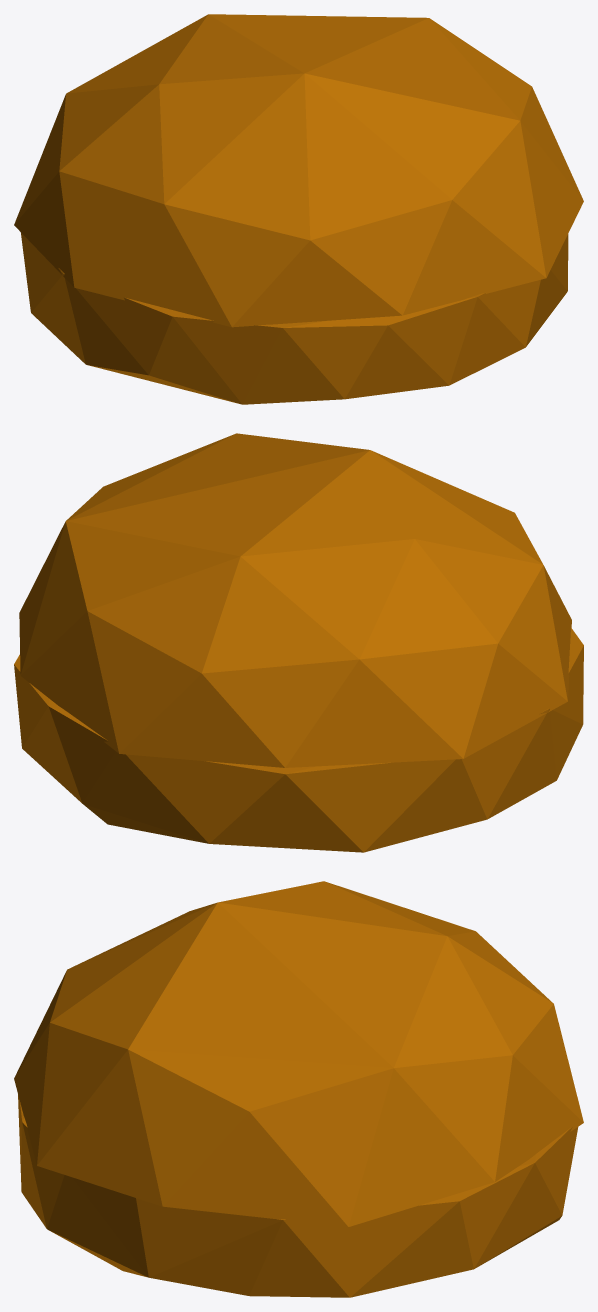
Rendered from bun.fbx.
3 views of the same model, one above another, from view 1: azimuth 30°, elevation 25°; view 2: azimuth 150°, elevation 25°; view 3: azimuth 270°, elevation 25° (orthographic). The views are drawn at different scales.
Parts seen in each view (by area): view 1: Burger.003, Burger.004; view 2: Burger.003, Burger.004; view 3: Burger.003, Burger.004.
Boxes of the visible parts, <box> form: Burger.003: <box>14,14,583,327</box>; Burger.004: <box>21,233,568,404</box>; Burger.003: <box>19,433,571,767</box>; Burger.004: <box>14,627,583,852</box>; Burger.003: <box>14,881,583,1226</box>; Burger.004: <box>18,1094,578,1297</box>.
Size of the model in its own units: 455 by 235 by 445.
